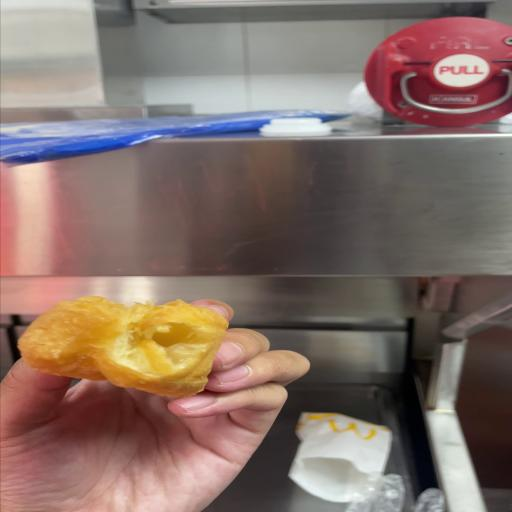brand_golden_defect: (19, 297, 228, 397)
